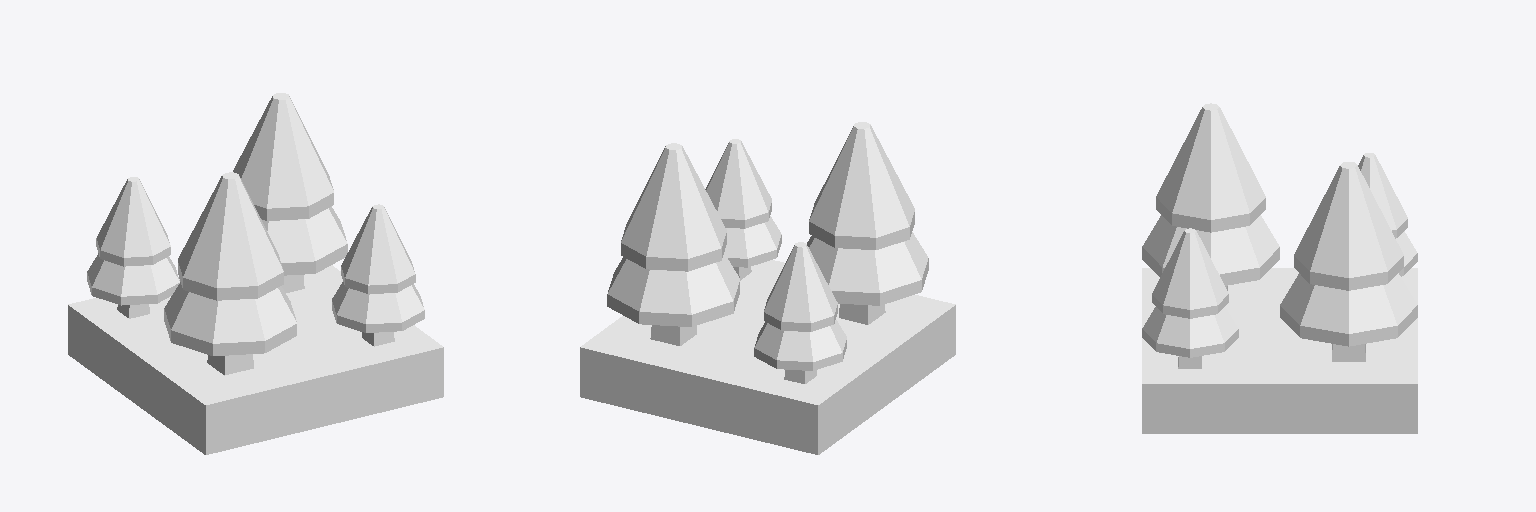
The model's file is tile_treeQuad.obj.
3 views of the same model, side by side, from view 1: azimuth 30°, elevation 25°; view 2: azimuth 150°, elevation 25°; view 3: azimuth 270°, elevation 25° (orthographic).
Parts seen in each view (by area): view 1: tree, tile_treeQuad; view 2: tree, tile_treeQuad; view 3: tree, tile_treeQuad.
Part boxes in pixels (x1,y1,x2,y2): tree: (87, 93, 424, 375); tile_treeQuad: (68, 265, 443, 454); tree: (607, 122, 928, 383); tile_treeQuad: (580, 260, 955, 454); tree: (1142, 103, 1417, 368); tile_treeQuad: (1142, 268, 1417, 433).
Size of the model in its own units: 1 by 0.96 by 1.